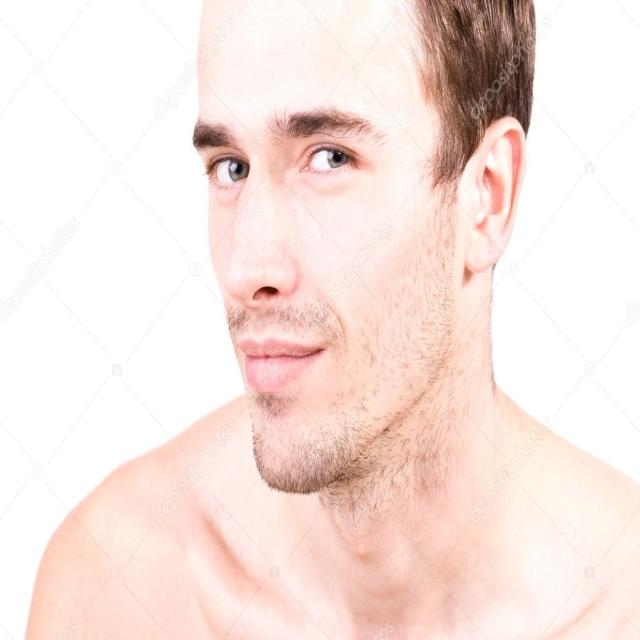front: (195, 56, 404, 449)
